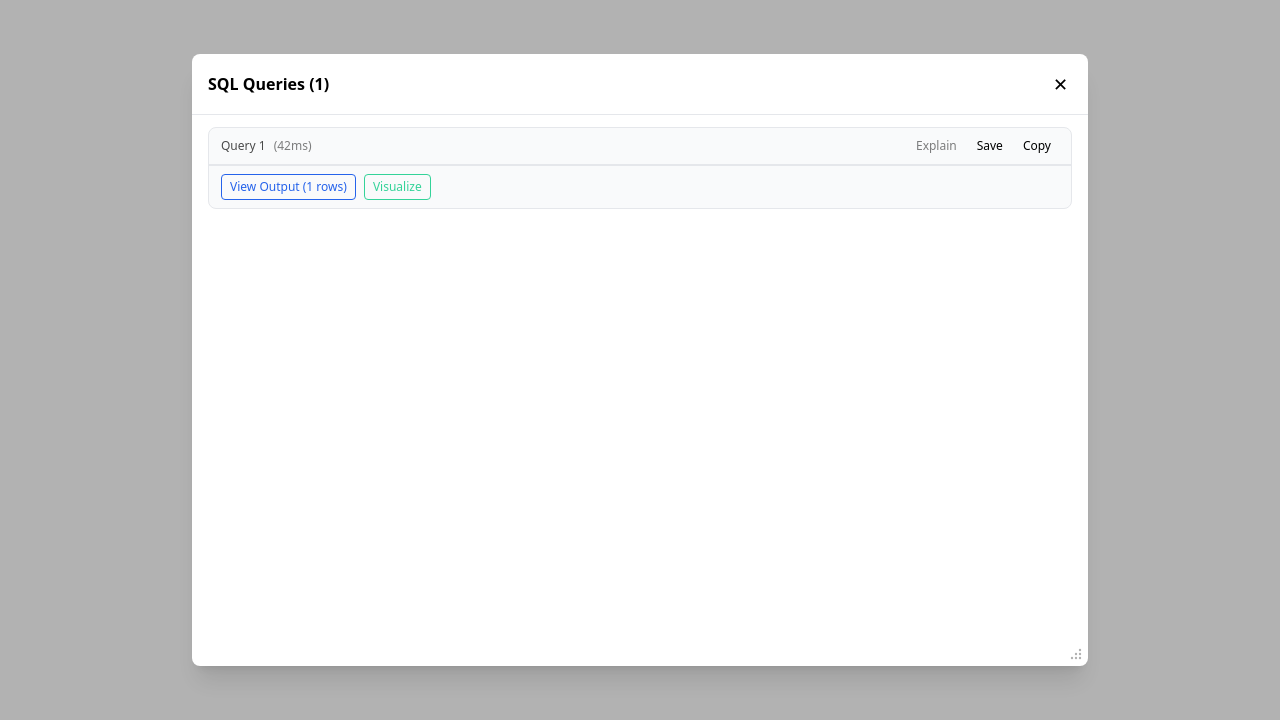
SQLPanel save query button › shows Saved! after clicking save button
The image size is (1280, 720).
Click the button with test id "save-query-btn-0" at (990, 146), box [969,136,1011,156]
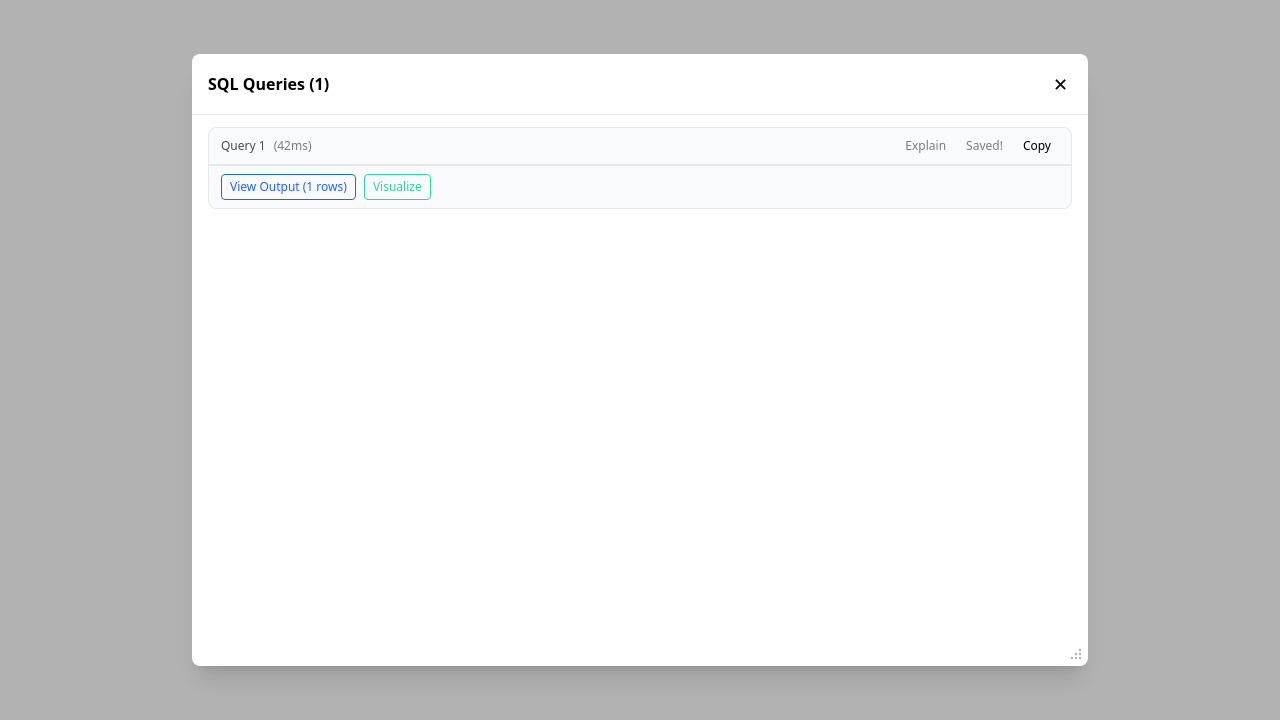
Check: the button with test id "save-query-btn-0" reads "Saved!", box [958,136,1011,156]
